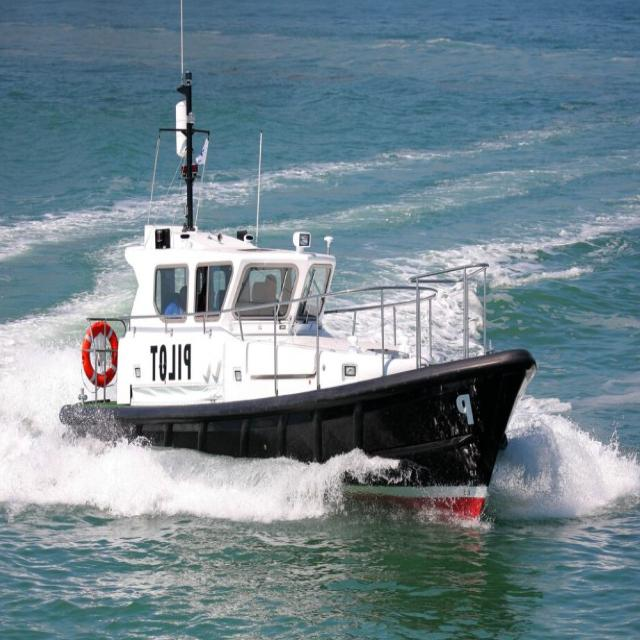houseboat: (70, 186, 544, 520)
